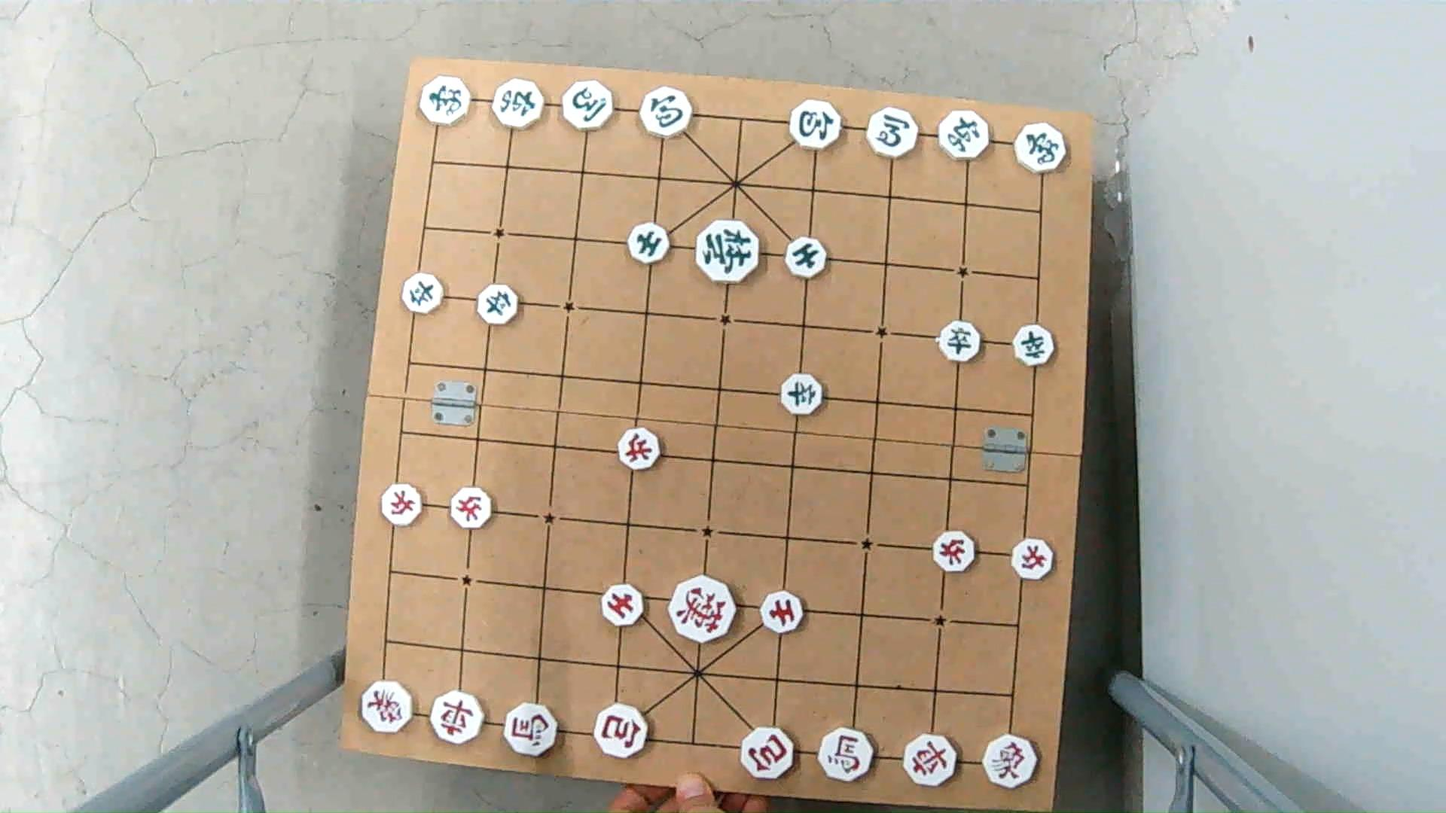cha_green: (490, 81, 546, 127), (938, 111, 993, 157)
cha_red: (901, 733, 961, 782), (430, 693, 488, 743)
jol_green: (780, 375, 828, 412), (400, 275, 449, 311), (938, 322, 985, 359), (477, 284, 520, 324), (1011, 328, 1057, 365)
jol_red: (1011, 537, 1054, 580), (932, 533, 980, 570), (447, 489, 495, 526), (377, 486, 424, 523), (618, 431, 661, 468)
ma_green: (561, 81, 618, 126), (865, 108, 920, 154)
ma_red: (815, 730, 875, 778), (503, 705, 561, 754)
po_green: (638, 87, 697, 132), (787, 101, 844, 147)
po_red: (593, 705, 650, 756), (737, 729, 797, 777)
sa_green: (782, 239, 829, 281), (626, 224, 673, 265)
sa_red: (598, 581, 648, 630), (760, 592, 806, 633)
sang_green: (418, 78, 473, 124), (1014, 124, 1069, 170)
sang_red: (359, 682, 414, 735), (981, 738, 1041, 786)
wang_green: (694, 221, 759, 285)
wang_red: (668, 577, 740, 641)
